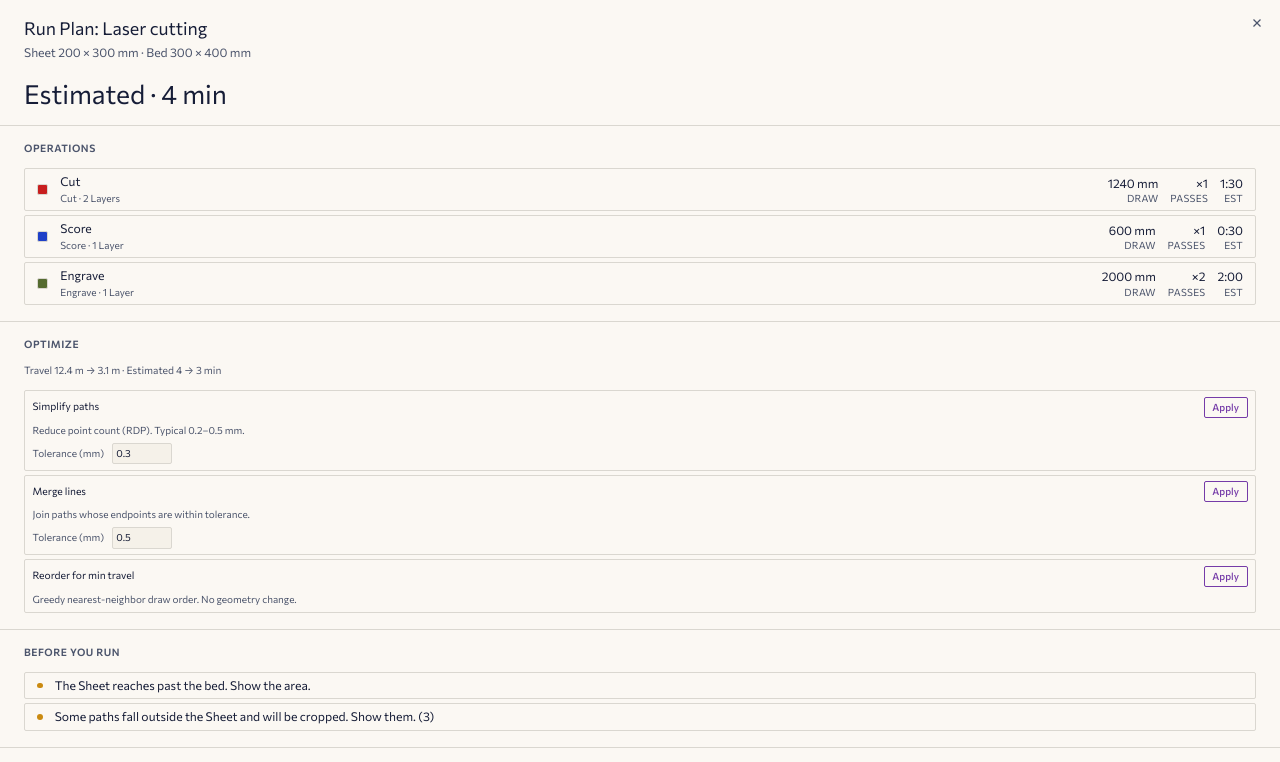
Test: RunPlanPanel — optimizeDeltas live readout › changing a preview tolerance drives the after figures live, and applying collapses the readout
Expected: the text with test id "optimize-deltas" reads "Travel 12.4 m → 3.1 m · Estimated 4 → 3 min", [24,364,221,376]
Note: Preview: coarsen the simplify tolerance → the "after" figures move live.
Step 1. Replace the text in the number field labelled "Tolerance (mm)" below "Simplify paths" with "1.5" → (142, 454), box [112,443,172,464]
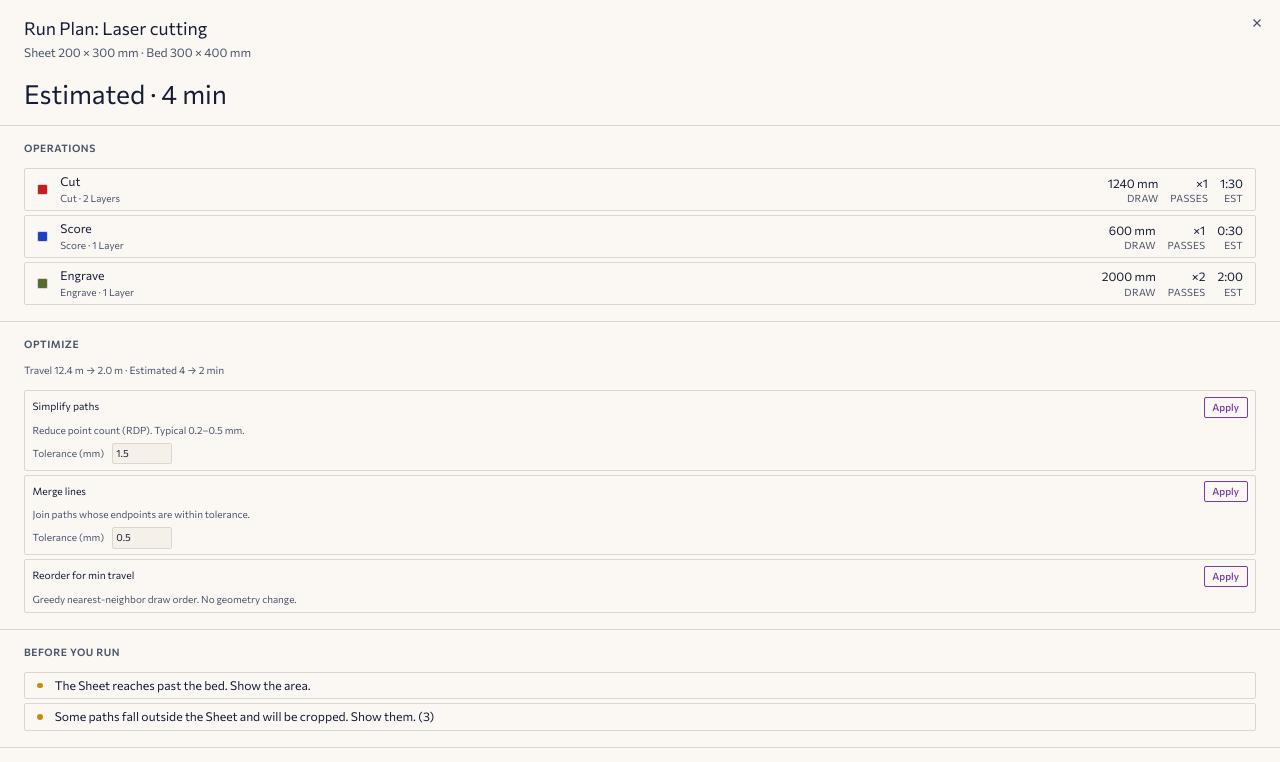
Expected: the text with test id "optimize-deltas" reads "Travel 12.4 m → 2.0 m · Estimated 4 → 2 min", [24,364,224,376]
Note: Apply: the readout collapses to the single current figure.
Step 2. Click the button "Apply" in the row of "Simplify paths" → (1226, 407), box [1204,397,1248,418]
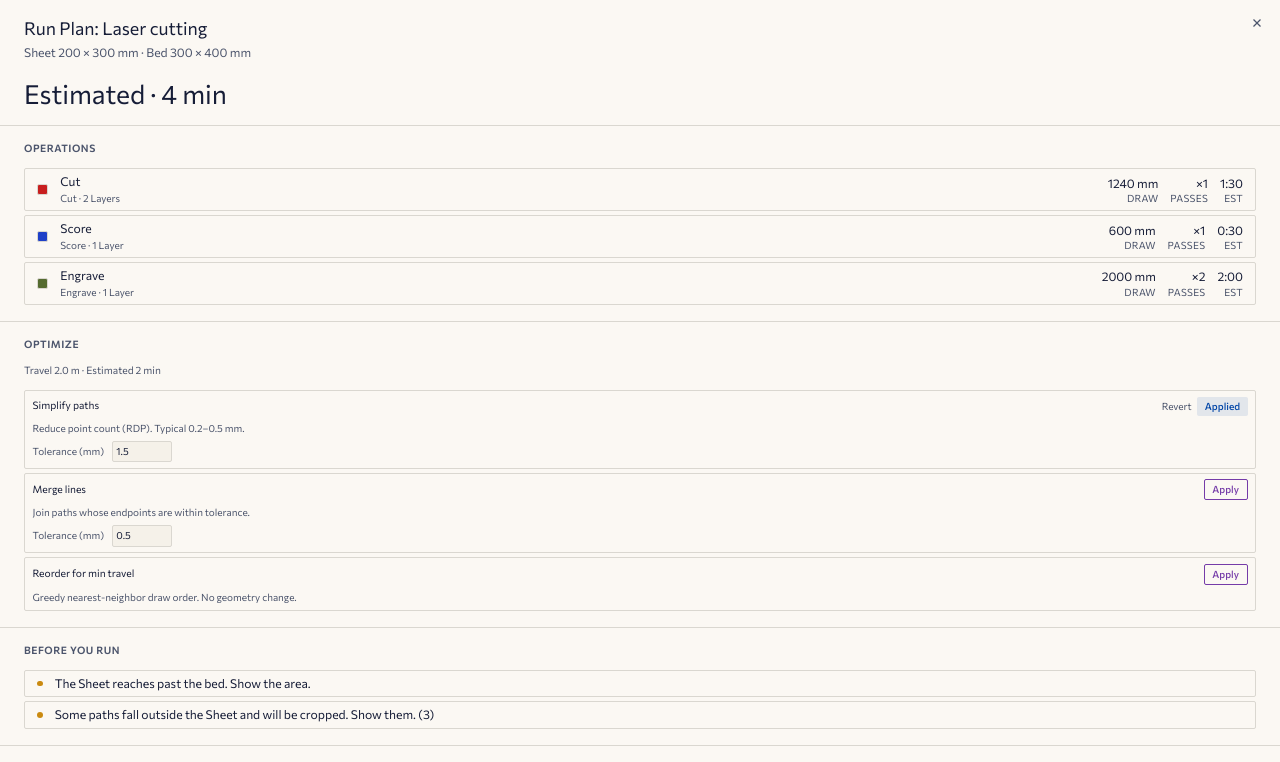
Expected: the text with test id "optimize-deltas" reads "Travel 2.0 m · Estimated 2 min", [24,364,161,376]
Expected: the text with test id "optimize-deltas" no longer shows "→"
Note: Drift the tolerance after applying (stale) → the before→after returns.
Step 3. Replace the text in the number field labelled "Tolerance (mm)" below "Simplify paths" with "0.4" → (142, 452), box [112,441,172,462]
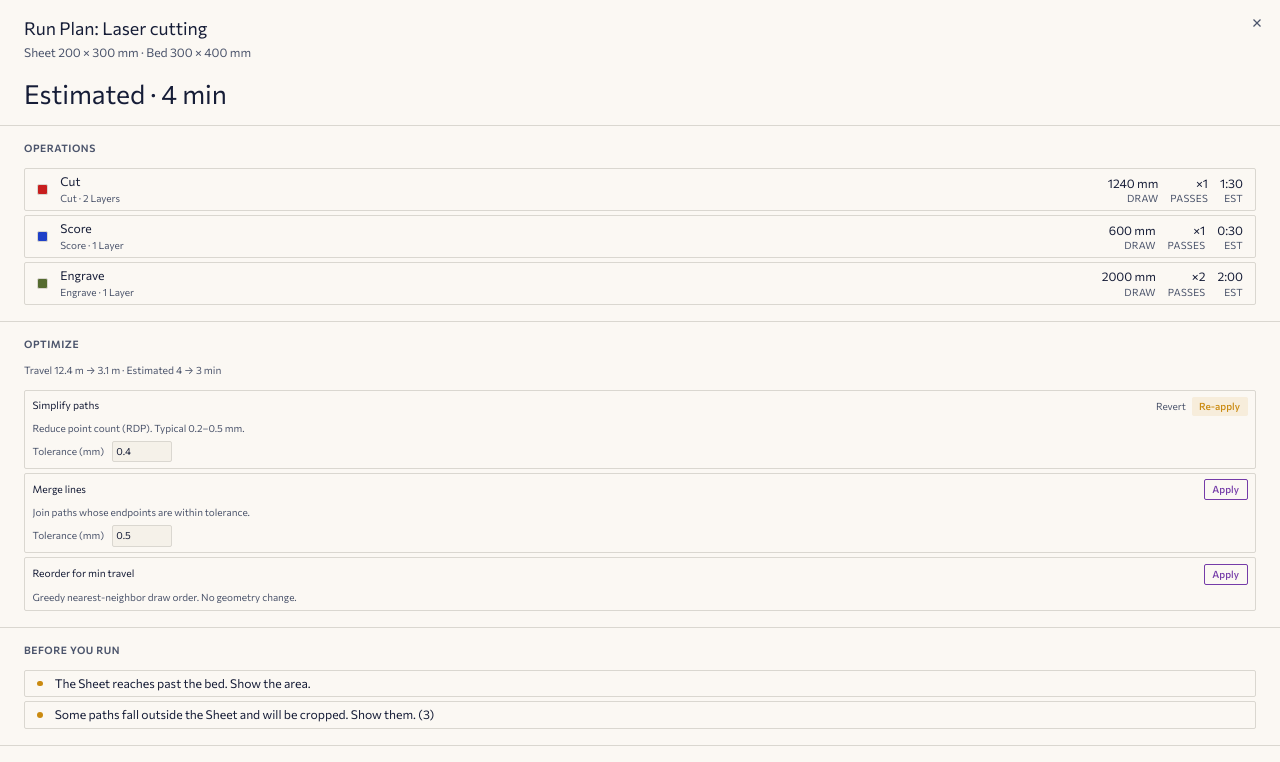
Expected: the text with test id "optimize-deltas" reads "Travel 12.4 m → 3.1 m · Estimated 4 → 3 min", [24,364,221,376]
